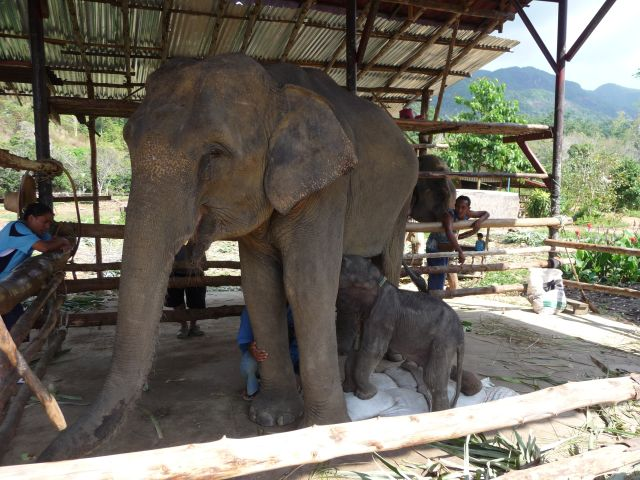elephant: (73, 47, 466, 454), (313, 242, 500, 426)
